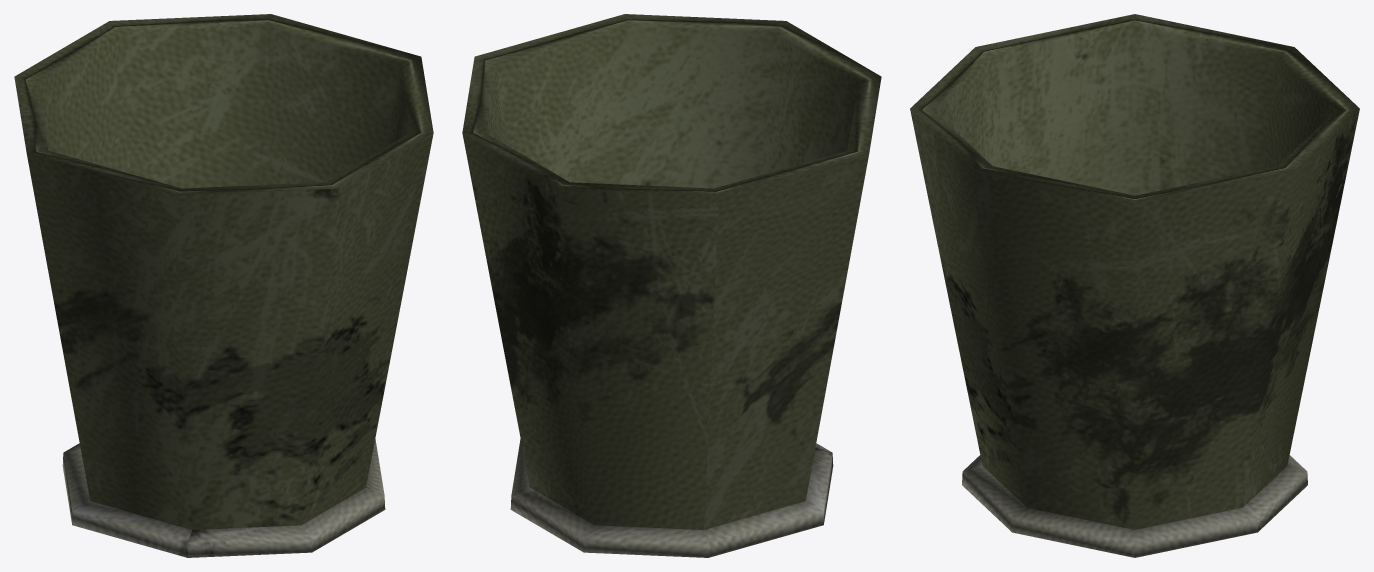
The model's file is TrashBin.fbx.
3 views of the same model, side by side, from view 1: azimuth 30°, elevation 25°; view 2: azimuth 150°, elevation 25°; view 3: azimuth 270°, elevation 25° (orthographic).
Parts seen in each view (by area): view 1: polySurface327; view 2: polySurface327; view 3: polySurface327.
Part boxes in pixels (x1=…): polySurface327: x1=14, y1=14, x2=433, y2=557; polySurface327: x1=462, y1=14, x2=881, y2=557; polySurface327: x1=910, y1=14, x2=1359, y2=557.
Bounding box in the file's own units: 3.58 × 3.32 × 3.6.
